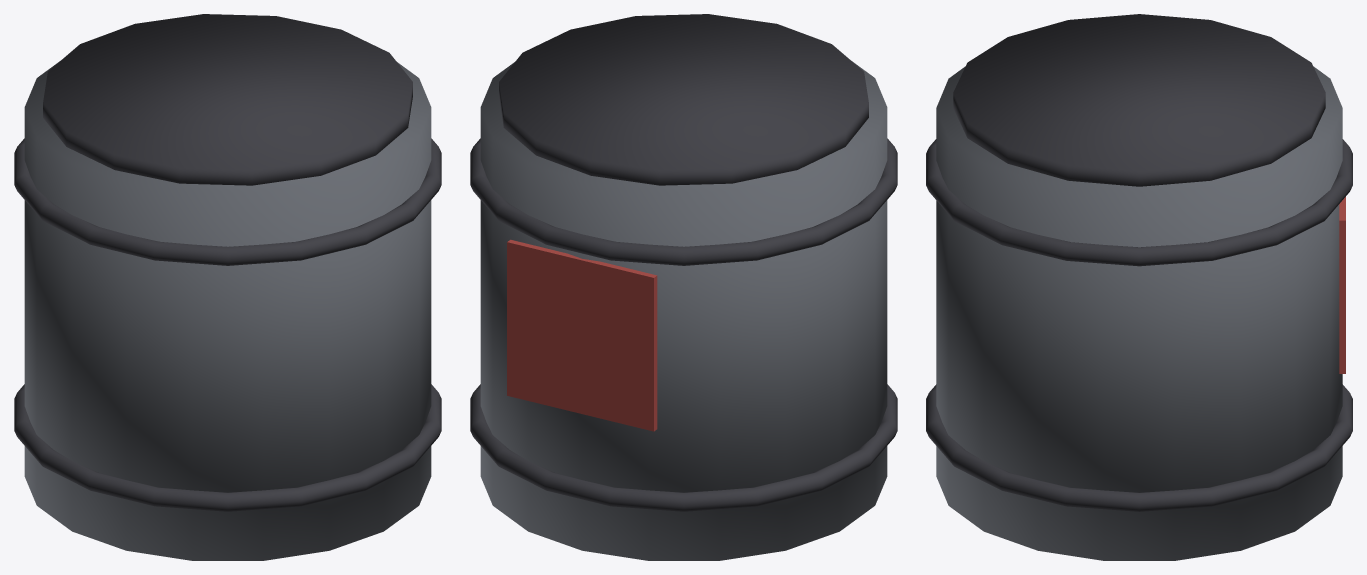
The model's file is prop_bouka_sou.glb.
3 views of the same model, side by side, from view 1: azimuth 30°, elevation 25°; view 2: azimuth 150°, elevation 25°; view 3: azimuth 270°, elevation 25° (orthographic).
Parts seen in each view (by area): view 1: bouka_sou; view 2: bouka_sou; view 3: bouka_sou.
Part boxes in pixels (bbox=[...]): bouka_sou: bbox=[14, 14, 441, 560]; bouka_sou: bbox=[470, 14, 897, 560]; bouka_sou: bbox=[926, 14, 1352, 560].
Size of the model in its own units: 1.28 by 1.25 by 1.26.
